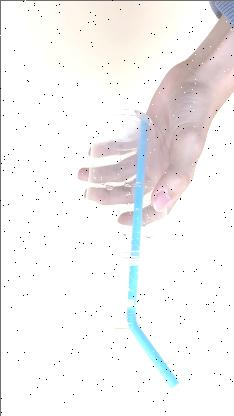Others: (63, 106, 187, 358)
